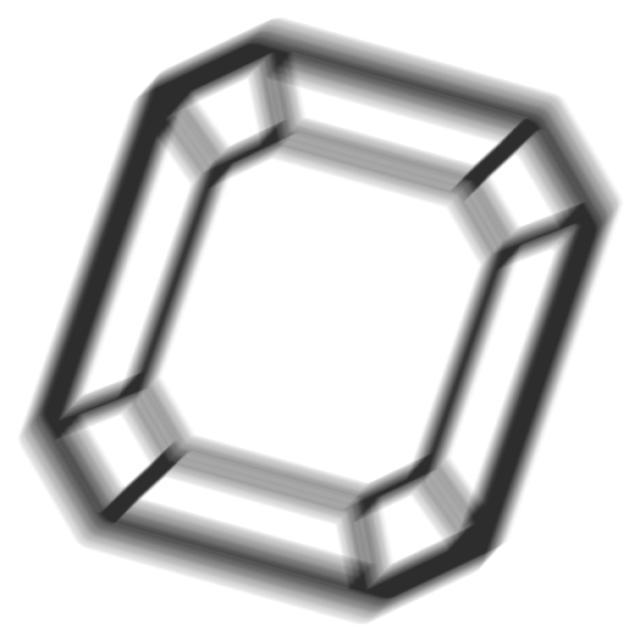emerald: (14, 15, 624, 629)
